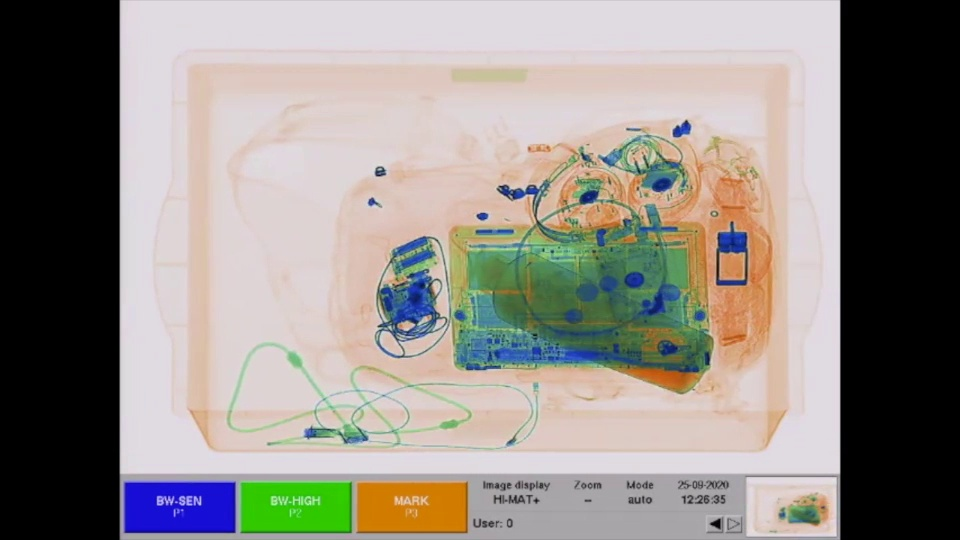tray_img: (148, 42, 829, 456)
